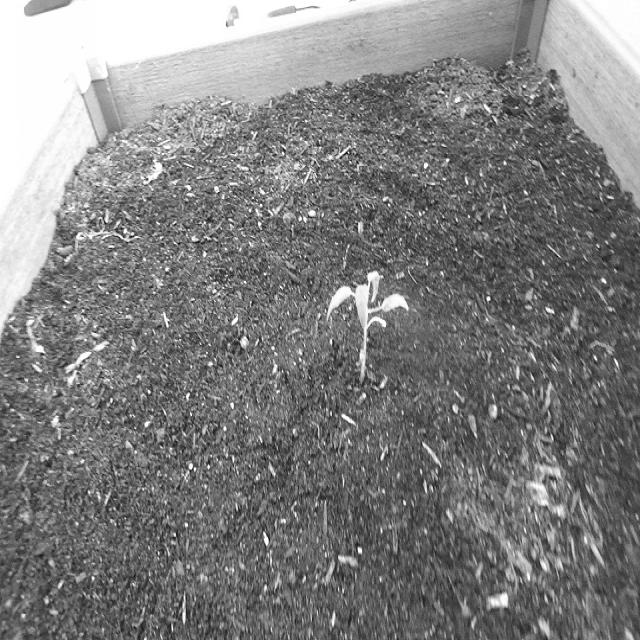Healthy: (318, 246, 411, 396)
